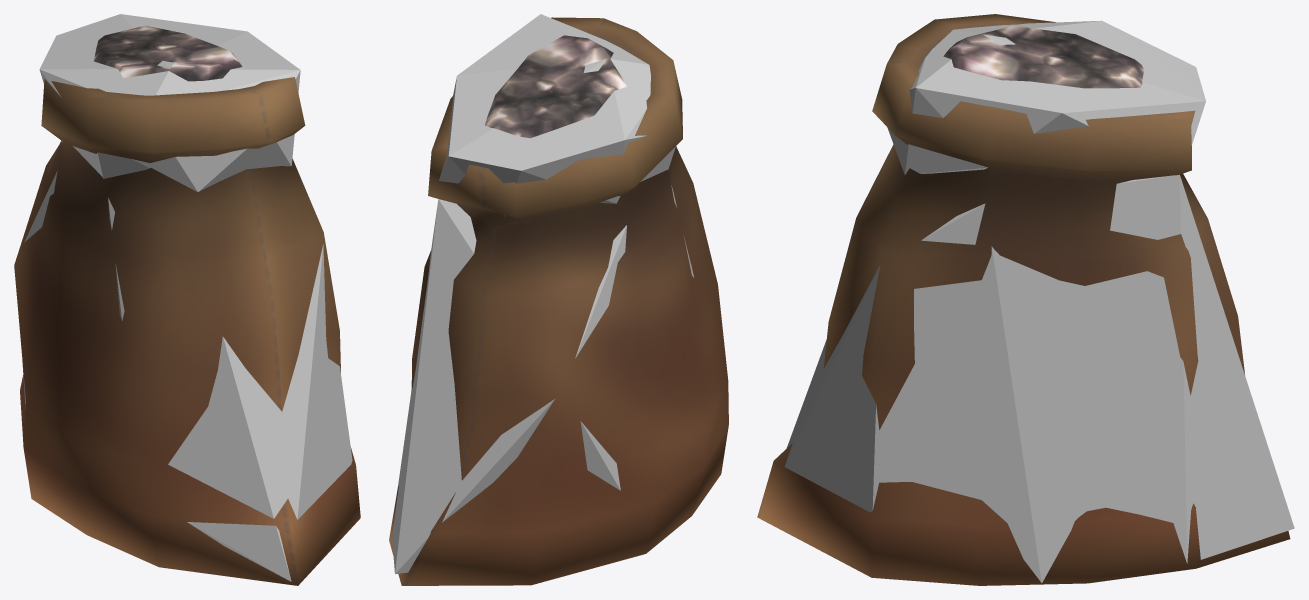
Rendered from SM_Bag_a.fbx.
3 renders of one model, left to right at view 1: azimuth 30°, elevation 25°; view 2: azimuth 150°, elevation 25°; view 3: azimuth 270°, elevation 25°, orthographic. The views are drawn at different scales.
Parts seen in each view (by area): view 1: SM_Bag_a, SM_Bag_a_ConvexHulls; view 2: SM_Bag_a, SM_Bag_a_ConvexHulls; view 3: SM_Bag_a_ConvexHulls, SM_Bag_a.
Boxes of the visible parts, x1=… form: SM_Bag_a: x1=14, y1=25, x2=360, y2=585; SM_Bag_a_ConvexHulls: x1=22, y1=14, x2=352, y2=581; SM_Bag_a: x1=389, y1=17, x2=728, y2=585; SM_Bag_a_ConvexHulls: x1=392, y1=14, x2=693, y2=574; SM_Bag_a_ConvexHulls: x1=784, y1=20, x2=1294, y2=582; SM_Bag_a: x1=757, y1=14, x2=1290, y2=585.
Bounding box in the file's own units: 45.69 × 78.24 × 76.79.
